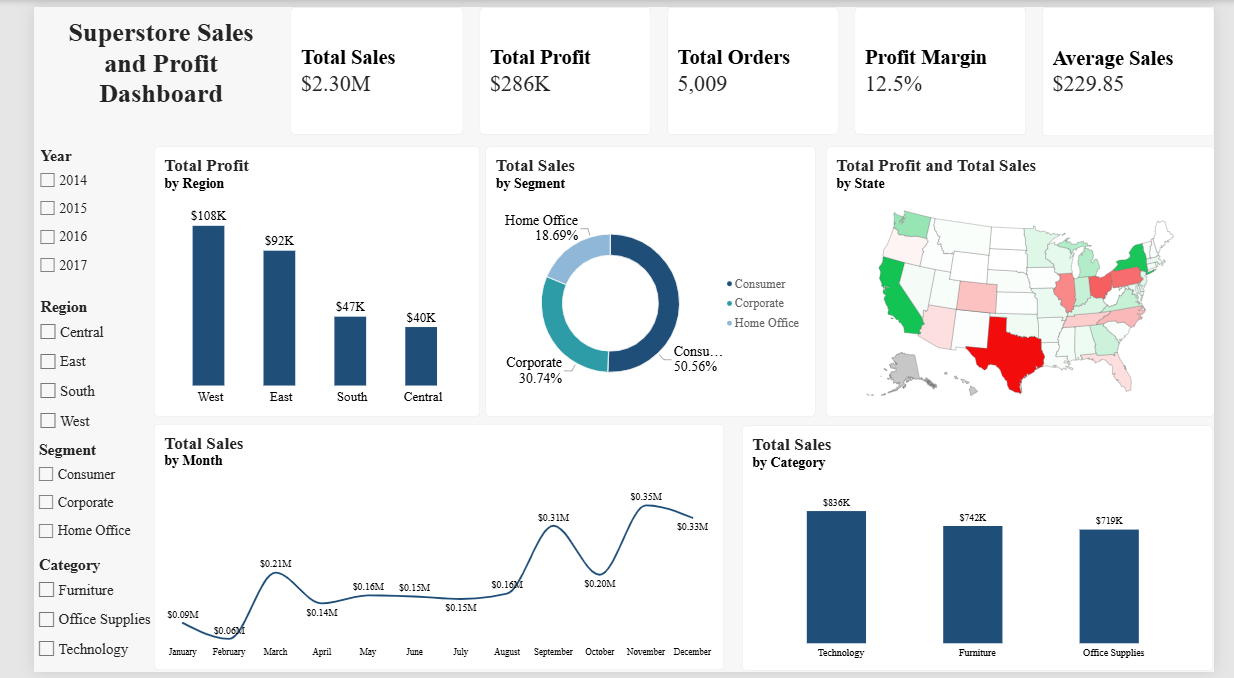

This screenshot's page, from the dashboard's own definition file:
{"tool":"powerbi","page":{"name":"Overview","canvas":[1920,1080],"ordinal":0},"visuals":[{"type":"cardVisual","fields":{"Data":["Superstore.Total Sales"]},"box":[417.9,0,281.6,209],"z":0},{"type":"cardVisual","fields":{"Data":["Superstore.total orders label"]},"box":[1030,0,279.4,209],"z":1000},{"type":"cardVisual","fields":{"Data":["Superstore.Profit Margin"]},"box":[1335,0,279.4,209],"z":2000},{"type":"cardVisual","fields":{"Data":["Superstore.Average Sales"]},"box":[1639.9,0,280,210],"z":3000},{"type":"cardVisual","fields":{"Data":["Superstore.Total Profit"]},"box":[725.1,0,279.4,209],"z":4000},{"type":"slicer","fields":{"Values":["Superstore.Year"]},"box":[2.4,226.7,207.6,245.7],"z":5000},{"type":"slicer","fields":{"Values":["Superstore.Region"]},"box":[2.4,472.4,210,231.4],"z":6000},{"type":"slicer","fields":{"Values":["Superstore.Segment"]},"box":[0,703.8,193.1,188.5],"z":7000},{"type":"slicer","fields":{"Values":["Superstore.Category"]},"box":[0,892.3,195.3,188.5],"z":8000},{"type":"textbox","box":[18.2,18.2,379.3,238.5],"z":9000},{"type":"clusteredColumnChart","fields":{"Category":["Superstore.Category"],"Y":["Superstore.Total Sales"]},"box":[1138.1,680,780.2,398.4],"z":10000},{"type":"clusteredColumnChart","fields":{"Category":["Superstore.Region"],"Y":["Superstore.Total Profit"]},"box":[195.6,226.7,529.7,439],"z":11000},{"type":"lineChart","fields":{"Category":["Superstore.Order Date.Variation.Date Hierarchy.Month"],"Y":["Superstore.Total Sales"]},"box":[195.1,678,926.8,400],"z":12000},{"type":"donutChart","fields":{"Category":["Superstore.Segment"],"Y":["Superstore.Total Sales"]},"box":[737.2,226.7,536.8,439],"z":13000},{"type":"shapeMap","fields":{"Category":["Superstore.State"],"Value":["Superstore.Total Profit"]},"box":[1288.4,226.7,632.3,439],"z":14000}]}

Visuals, with their boxes in screenshot pixels (x1, y1, x2, y2), scaled from the page's 1920x1080 canvas onto the 1234x678 screenshot:
cardVisual - Superstore.Total Sales: {"left": 269, "top": 0, "right": 450, "bottom": 131}
cardVisual - Superstore.total orders label: {"left": 662, "top": 0, "right": 842, "bottom": 131}
cardVisual - Superstore.Profit Margin: {"left": 858, "top": 0, "right": 1038, "bottom": 131}
cardVisual - Superstore.Average Sales: {"left": 1054, "top": 0, "right": 1233, "bottom": 132}
cardVisual - Superstore.Total Profit: {"left": 466, "top": 0, "right": 646, "bottom": 131}
slicer - Superstore.Year: {"left": 2, "top": 142, "right": 135, "bottom": 297}
slicer - Superstore.Region: {"left": 2, "top": 297, "right": 137, "bottom": 442}
slicer - Superstore.Segment: {"left": 0, "top": 442, "right": 124, "bottom": 560}
slicer - Superstore.Category: {"left": 0, "top": 560, "right": 126, "bottom": 677}
textbox: {"left": 12, "top": 11, "right": 255, "bottom": 161}
clusteredColumnChart - Superstore.Category x Superstore.Total Sales: {"left": 731, "top": 427, "right": 1233, "bottom": 677}
clusteredColumnChart - Superstore.Region x Superstore.Total Profit: {"left": 126, "top": 142, "right": 466, "bottom": 418}
lineChart - Superstore.Order Date.Variation.Date Hierarchy.Month x Superstore.Total Sales: {"left": 125, "top": 426, "right": 721, "bottom": 677}
donutChart - Superstore.Segment x Superstore.Total Sales: {"left": 474, "top": 142, "right": 819, "bottom": 418}
shapeMap - Superstore.State x Superstore.Total Profit: {"left": 828, "top": 142, "right": 1233, "bottom": 418}
